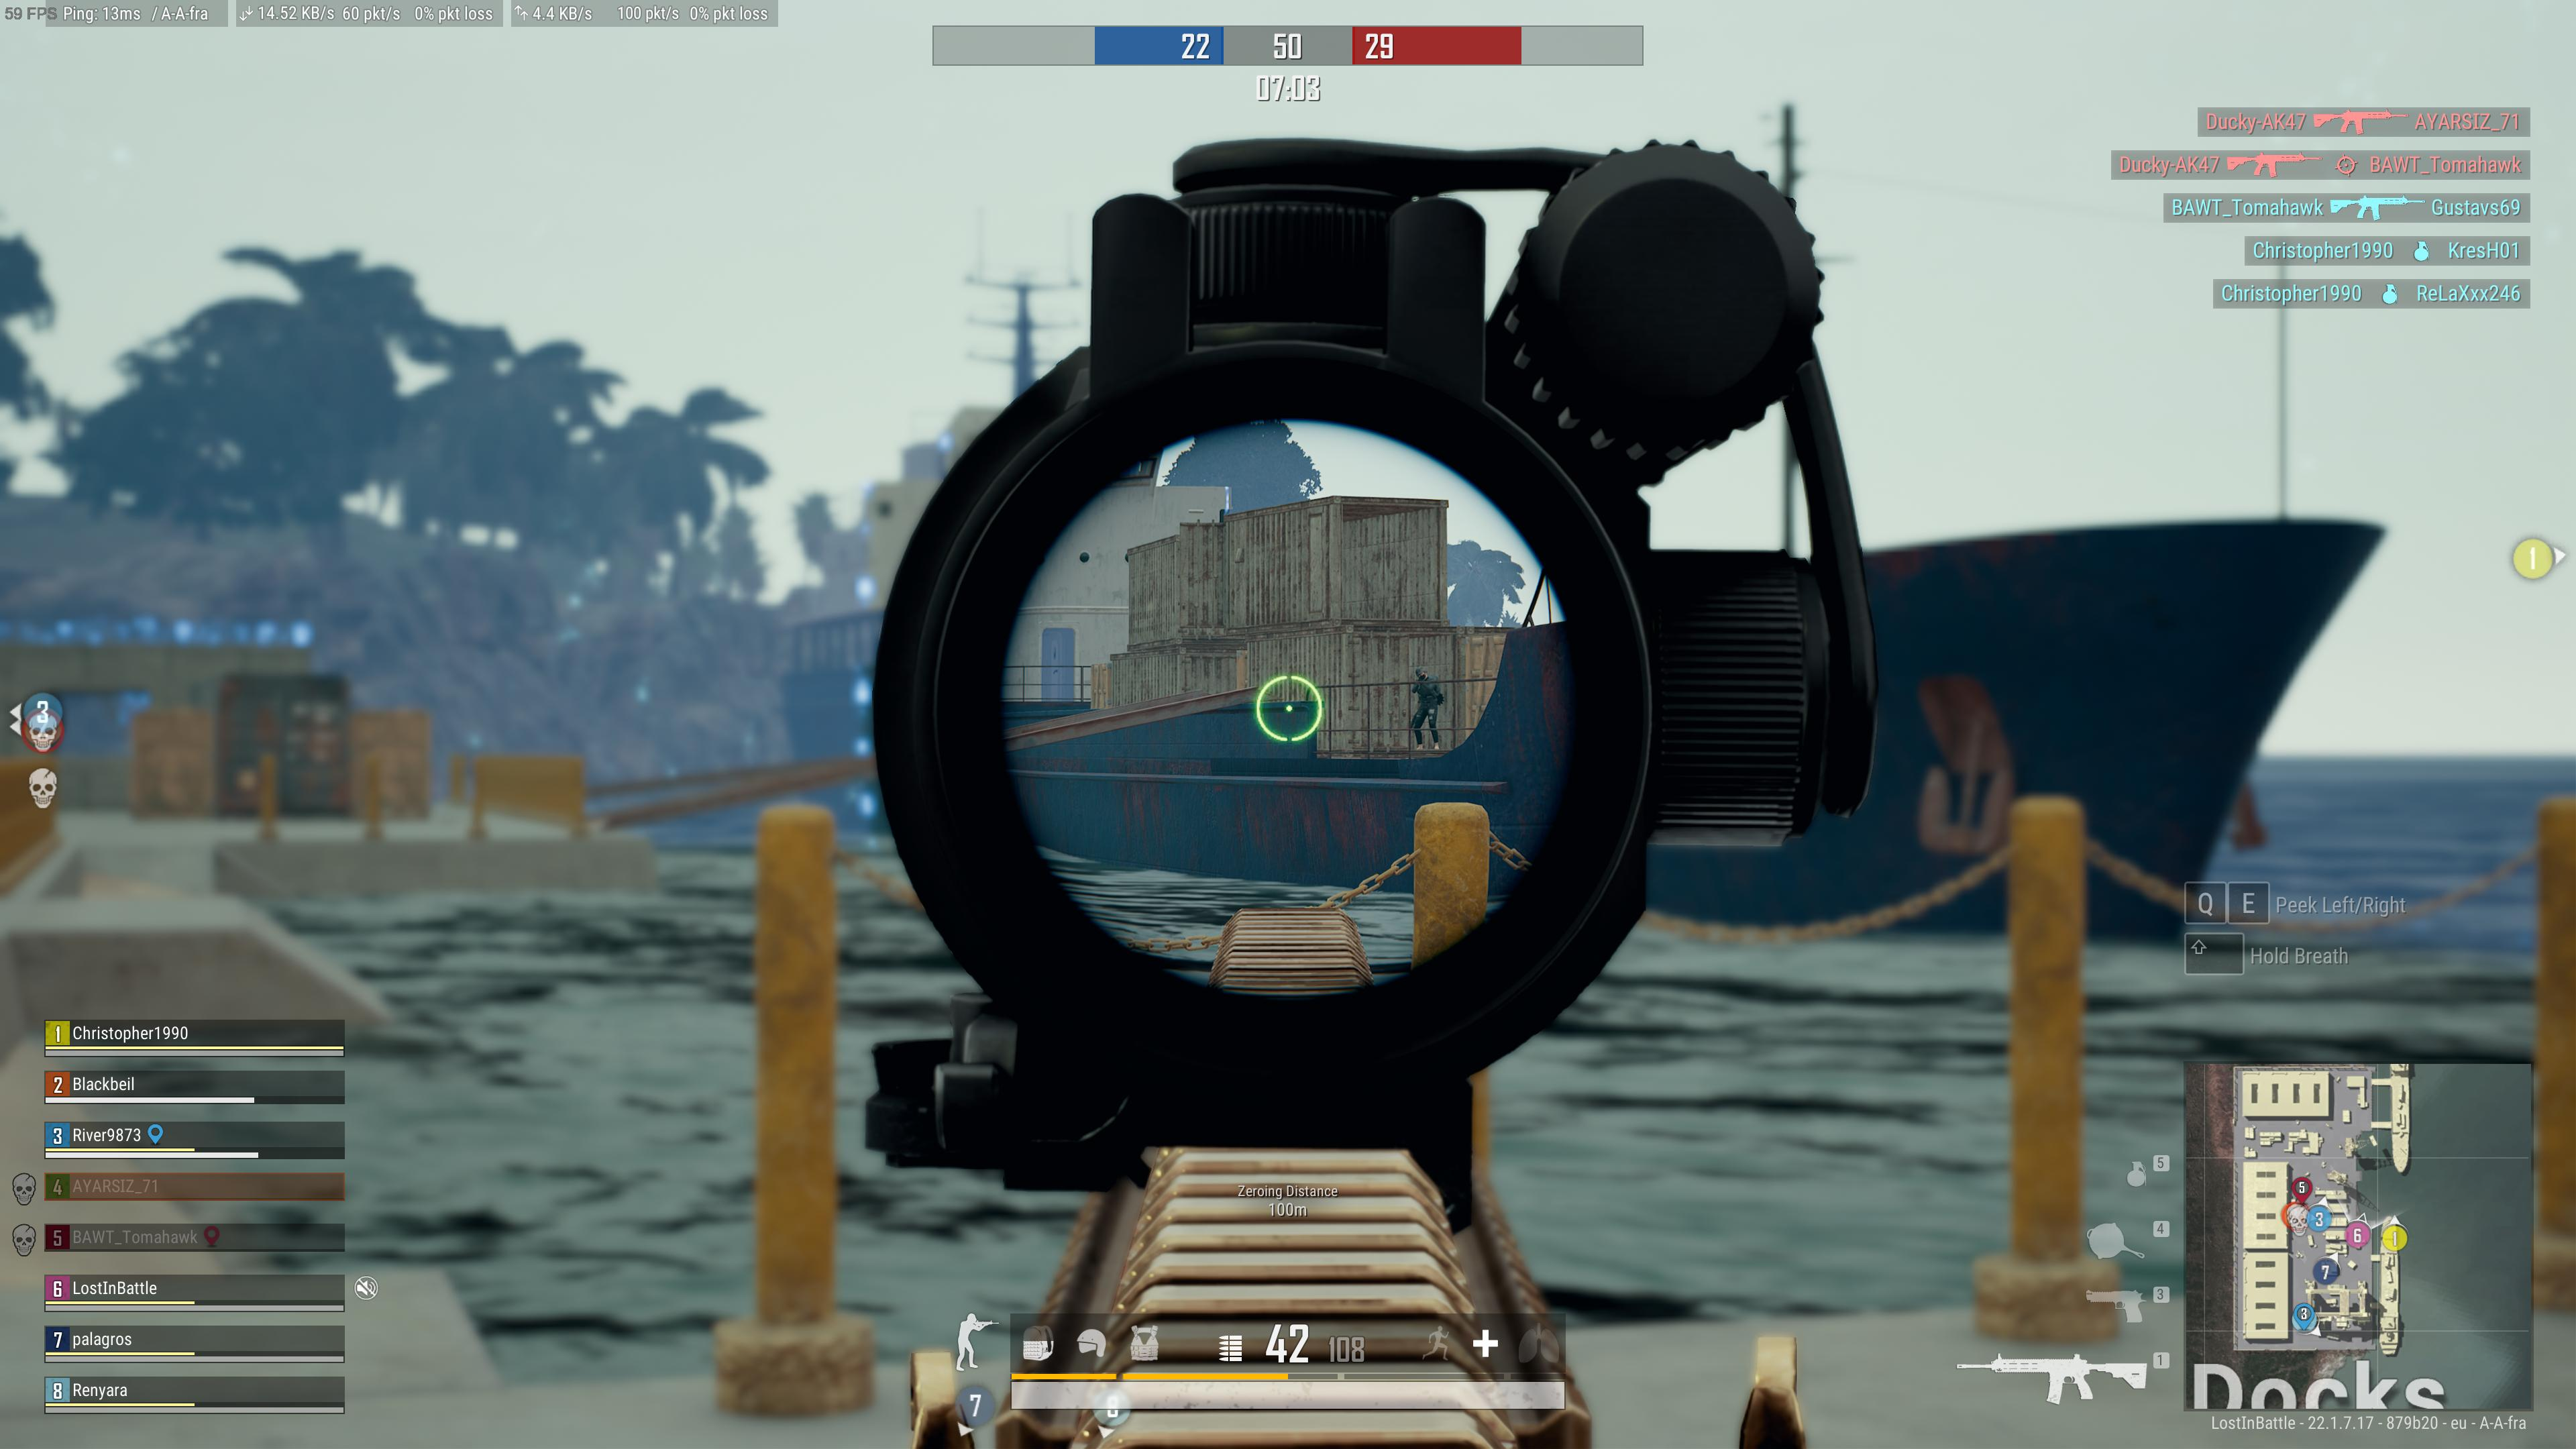enemy: (1410, 665, 1444, 748)
enemy_head: (1414, 665, 1428, 679)
